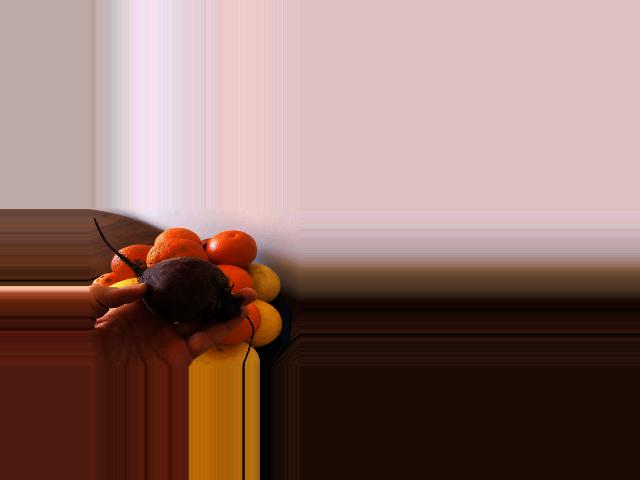beet: (94, 218, 241, 323)
